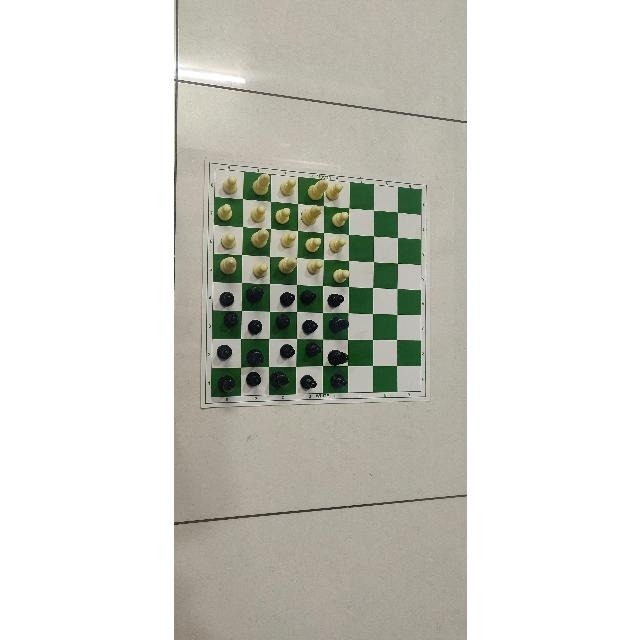black-bishop: (269, 369, 291, 388), (216, 375, 236, 395), (326, 349, 349, 366), (245, 285, 264, 305), (245, 347, 264, 366), (329, 317, 349, 333)
black-pawn: (222, 310, 239, 329), (300, 373, 318, 390), (301, 318, 317, 336), (330, 373, 348, 389), (245, 319, 264, 334), (305, 342, 321, 359), (244, 371, 261, 387), (216, 345, 232, 361), (274, 313, 290, 329), (279, 291, 294, 308), (299, 290, 314, 306), (218, 291, 233, 306), (279, 344, 295, 358)
white-bishop: (251, 173, 271, 201), (300, 204, 322, 223), (308, 179, 328, 199), (250, 228, 270, 248), (219, 255, 237, 275), (278, 256, 296, 274)
white-pawn: (277, 177, 295, 195), (273, 206, 290, 225), (326, 181, 343, 200), (220, 232, 237, 250), (278, 231, 295, 249), (249, 204, 265, 223), (303, 237, 322, 253), (221, 175, 236, 195), (329, 237, 346, 254), (217, 203, 233, 220), (305, 259, 322, 275), (331, 212, 349, 227), (251, 262, 269, 277), (332, 269, 349, 284)
